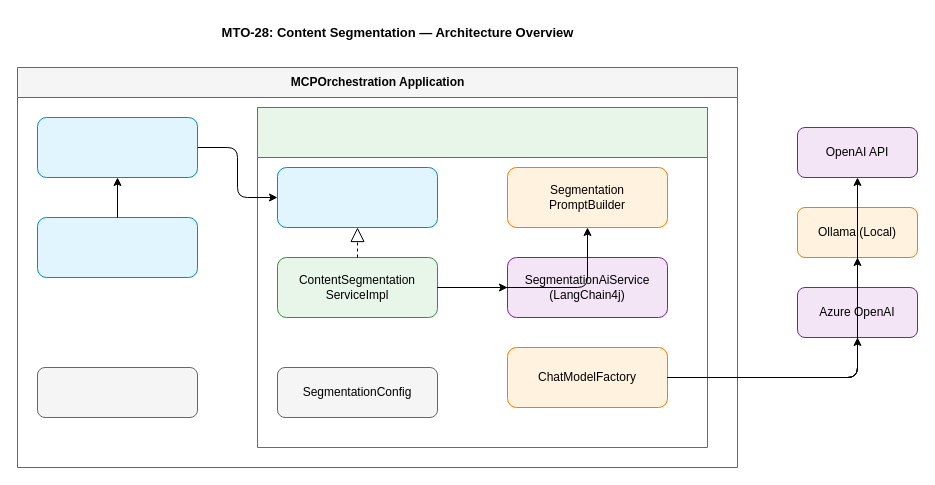
This 935x485 diagram has some shape labels left out. The box of each missing label's shape, as (x1, y1, x2, y2) in pixels:
Content Segmentation Service (MTO-28): (256, 106, 708, 448)
ContentSegmentation Service (Interface): (276, 166, 438, 228)
KB Refinery Pipeline: (36, 116, 198, 178)
Koin DI (AppModule): (36, 366, 198, 418)
PII Masking Engine (MTO-27): (36, 216, 198, 278)
